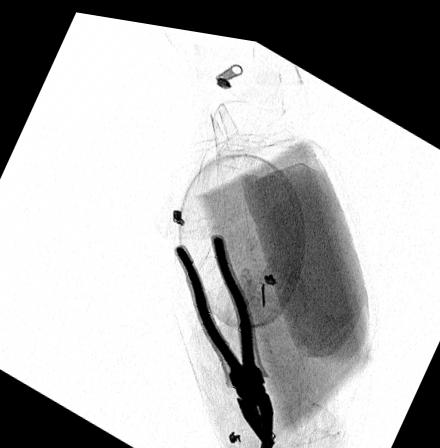Pliers: (172, 224, 273, 441)
